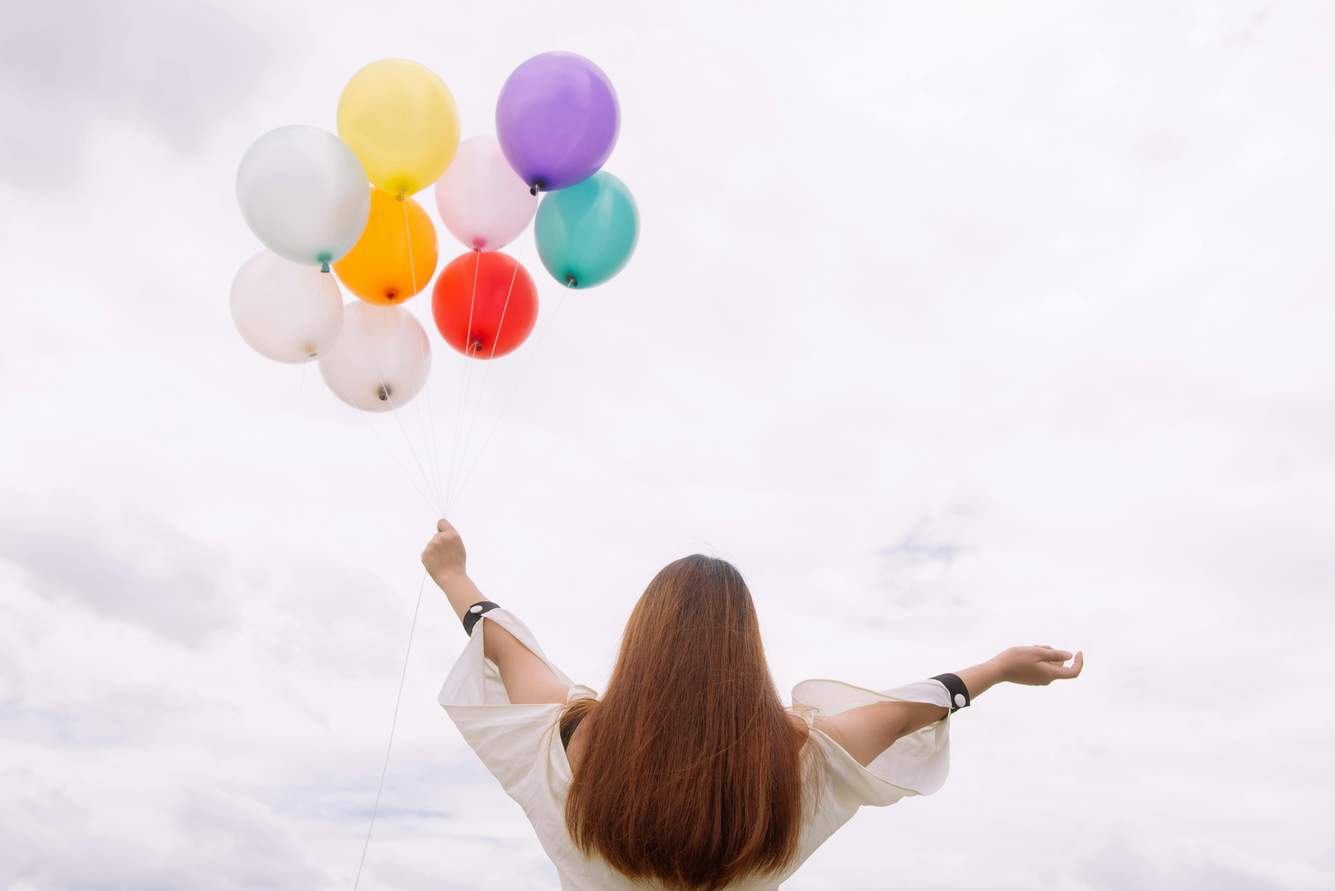balloon: (236, 125, 370, 325), (496, 52, 620, 195), (337, 59, 459, 196), (230, 251, 344, 363), (318, 301, 431, 412), (332, 188, 437, 305), (535, 170, 639, 288), (435, 135, 538, 251), (432, 250, 538, 359)
